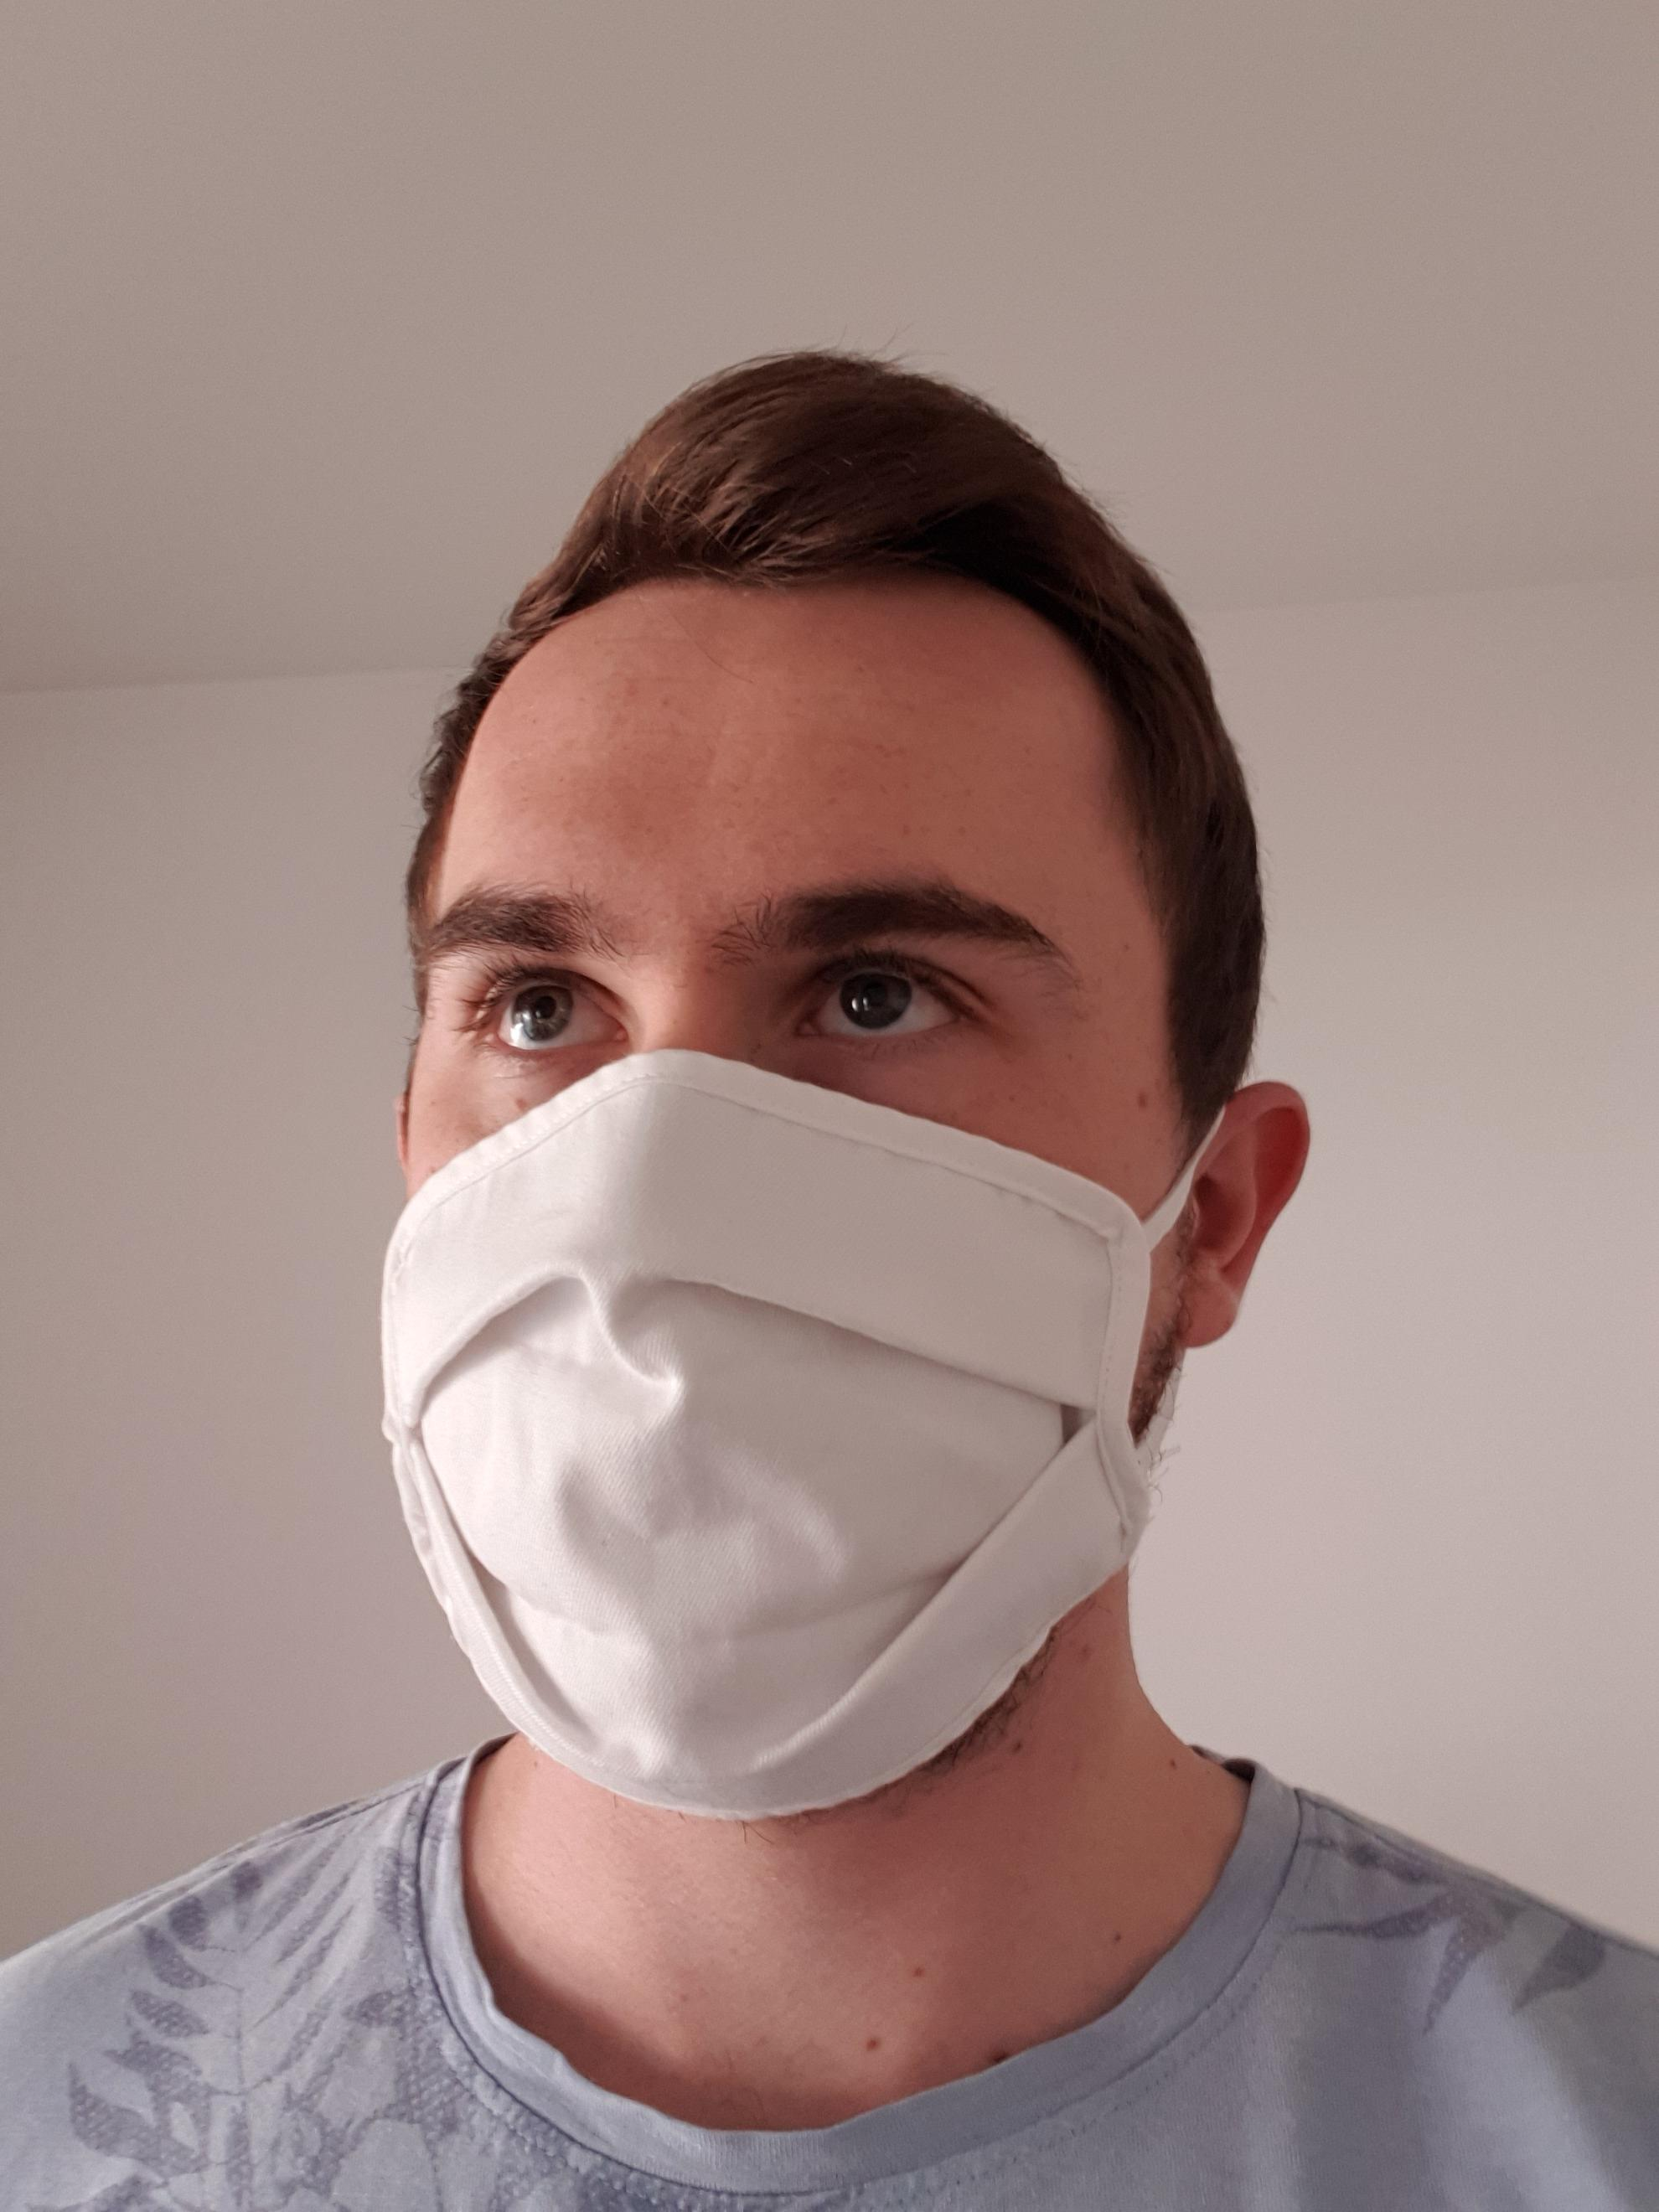with_mask: (325, 526, 1244, 1822)
